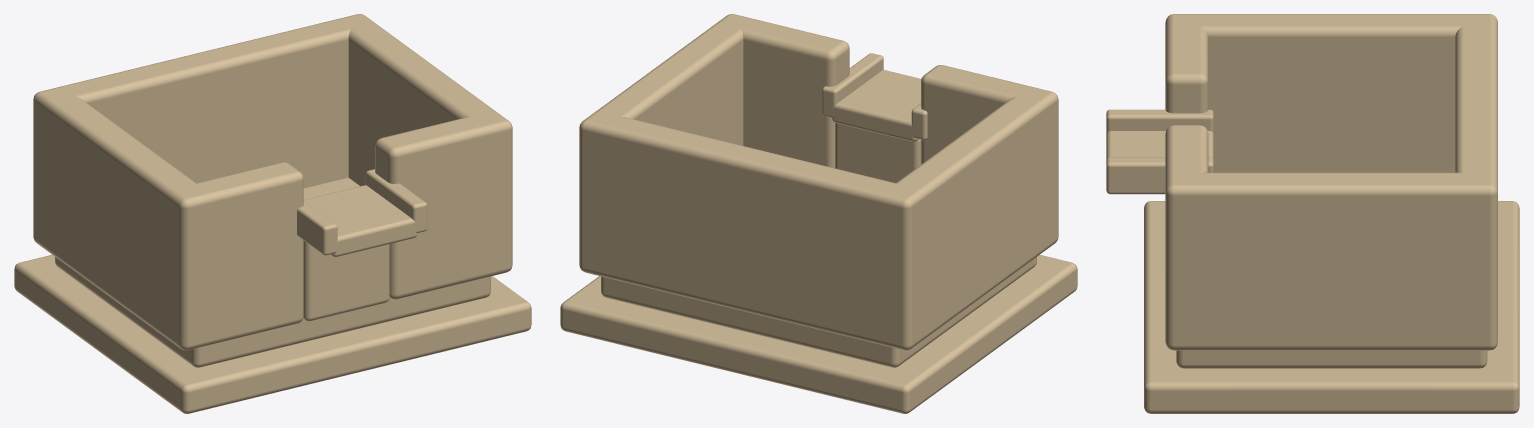
File: griffin-airmail-roost-and-posthouse-water-basin-e14eb0b4__30509.glb
3 renders of one model, left to right at view 1: azimuth 30°, elevation 25°; view 2: azimuth 150°, elevation 25°; view 3: azimuth 270°, elevation 25°, orthographic. The views are drawn at different scales.
Parts seen in each view (by area): view 1: water-basin; view 2: water-basin; view 3: water-basin.
Boxes of the visible parts, bbox=[...] form: water-basin: bbox=[14, 14, 531, 413]; water-basin: bbox=[560, 14, 1077, 413]; water-basin: bbox=[1106, 14, 1519, 413].
Size of the model in its own units: 0.82 by 0.46 by 0.77.
